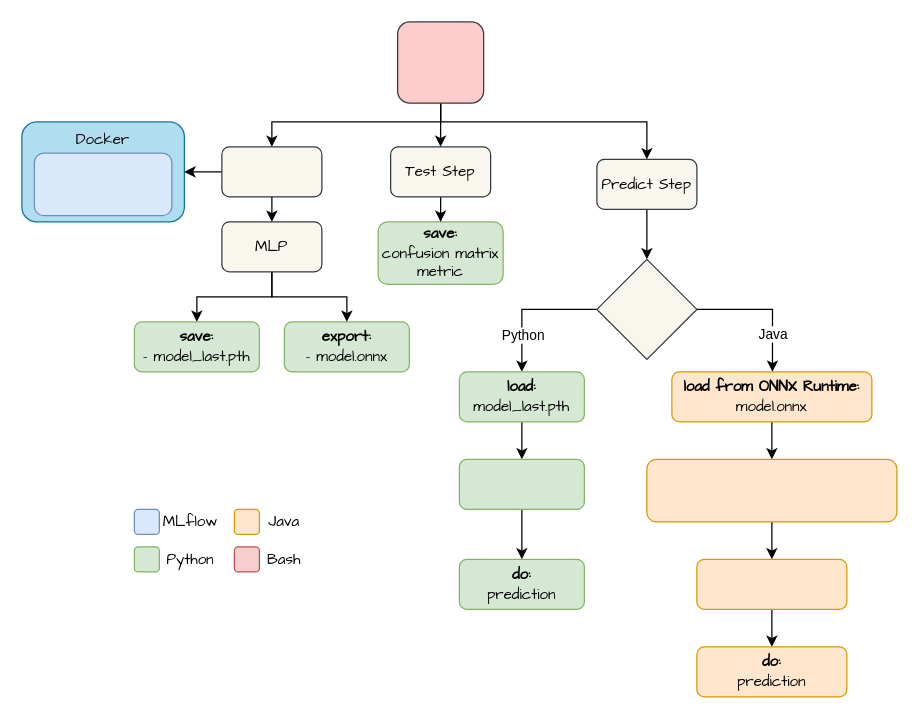
The diagram is 919 pixels wide and 719 high, and some of its shapes have lost their labels. The centre of each missing label's shape, as x and y in pixels:
"do: data preprocessing" belongs at point 771,583.
"load: data" belongs at point 521,483.
"receive from POST (Spring Boot): predict data" belongs at point 771,490.
"run: - train - test - predict" belongs at point 440,62.
"save: - Metrics - Best Parameters" belongs at point 102,184.
"Training Step" belongs at point 271,171.
